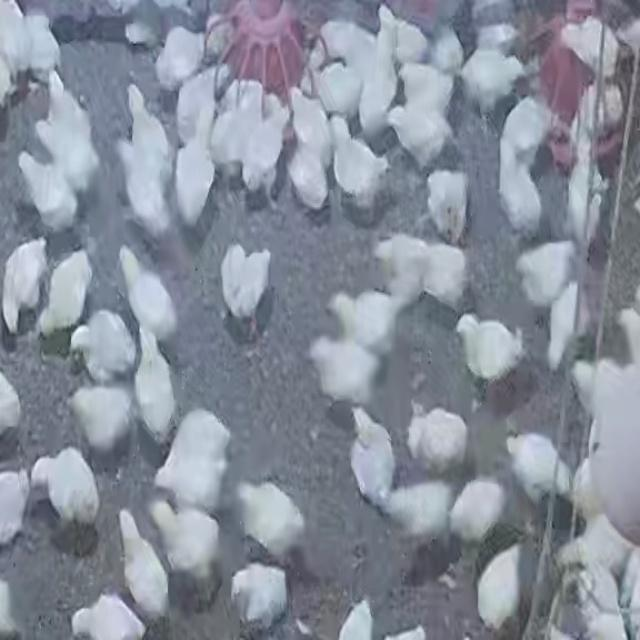chicken: (153, 409, 232, 516), (568, 313, 640, 425), (148, 496, 222, 596), (116, 245, 181, 348), (116, 134, 177, 242), (327, 117, 389, 219), (233, 479, 307, 562), (558, 552, 628, 637), (36, 445, 100, 536), (35, 246, 94, 344), (118, 511, 170, 620), (503, 430, 575, 508), (212, 242, 272, 332), (122, 81, 173, 185), (68, 382, 135, 460), (69, 308, 135, 386), (348, 409, 397, 513), (356, 17, 398, 138), (475, 542, 530, 633), (17, 150, 75, 236), (557, 507, 629, 575), (134, 326, 176, 442), (371, 234, 436, 308), (379, 479, 452, 544), (405, 405, 470, 477), (212, 80, 264, 169), (458, 312, 518, 389), (227, 560, 290, 632), (457, 46, 524, 113), (1, 239, 47, 335), (326, 287, 392, 353), (34, 117, 96, 187), (174, 59, 226, 142), (448, 478, 510, 547), (560, 14, 624, 80), (174, 125, 215, 228), (568, 83, 627, 153), (307, 349, 378, 407), (242, 111, 288, 200), (563, 155, 607, 248), (70, 592, 148, 640), (152, 24, 207, 92), (497, 153, 542, 236), (498, 94, 548, 168), (285, 130, 330, 212), (43, 72, 94, 143), (418, 240, 468, 311), (377, 4, 431, 69), (315, 16, 374, 74), (425, 168, 469, 245), (388, 108, 446, 164), (289, 86, 330, 164), (22, 10, 63, 86), (312, 59, 362, 121), (517, 244, 571, 301), (544, 286, 578, 371), (0, 1, 31, 93), (0, 467, 31, 546), (570, 454, 609, 516), (400, 65, 449, 110), (0, 362, 24, 439), (429, 26, 466, 75), (334, 599, 376, 640)
